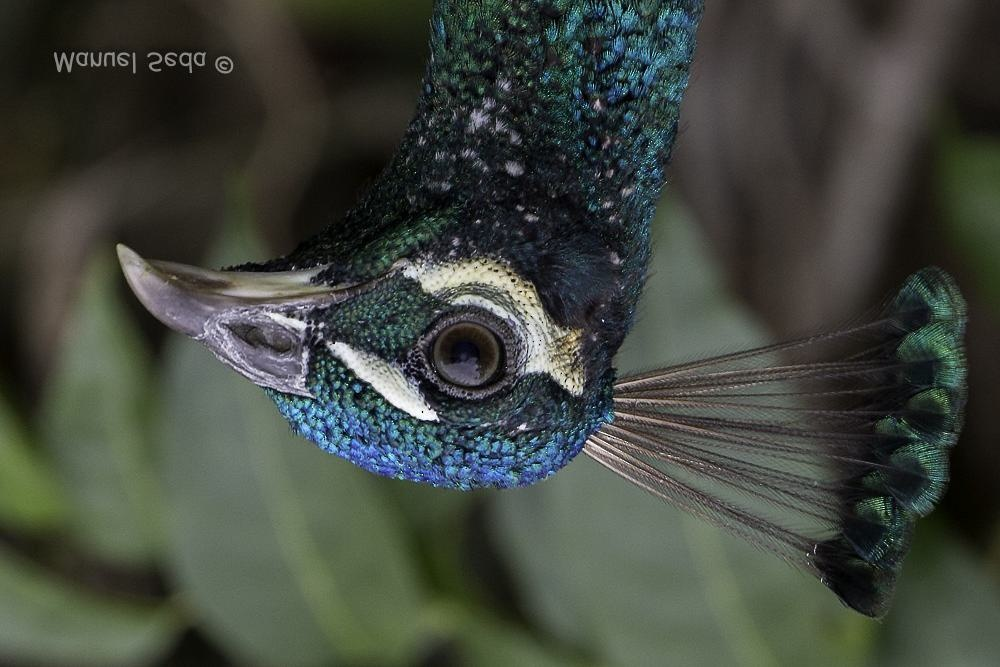peacock: (106, 1, 882, 514)
